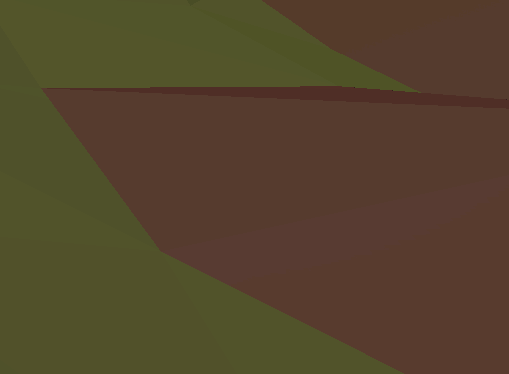rock: (38, 74, 509, 374)
